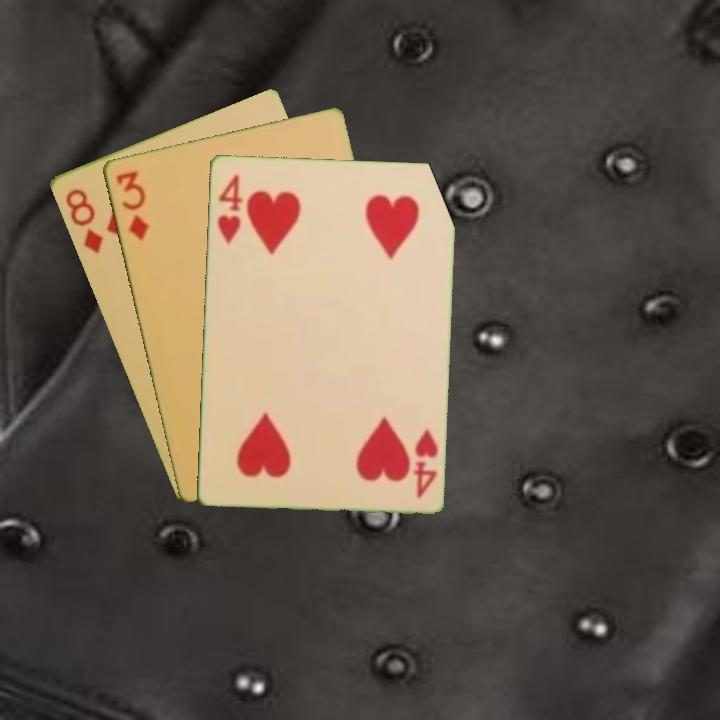3d: (112, 167, 151, 243)
4h: (213, 170, 245, 247), (409, 425, 440, 501)
8d: (61, 185, 106, 257)
